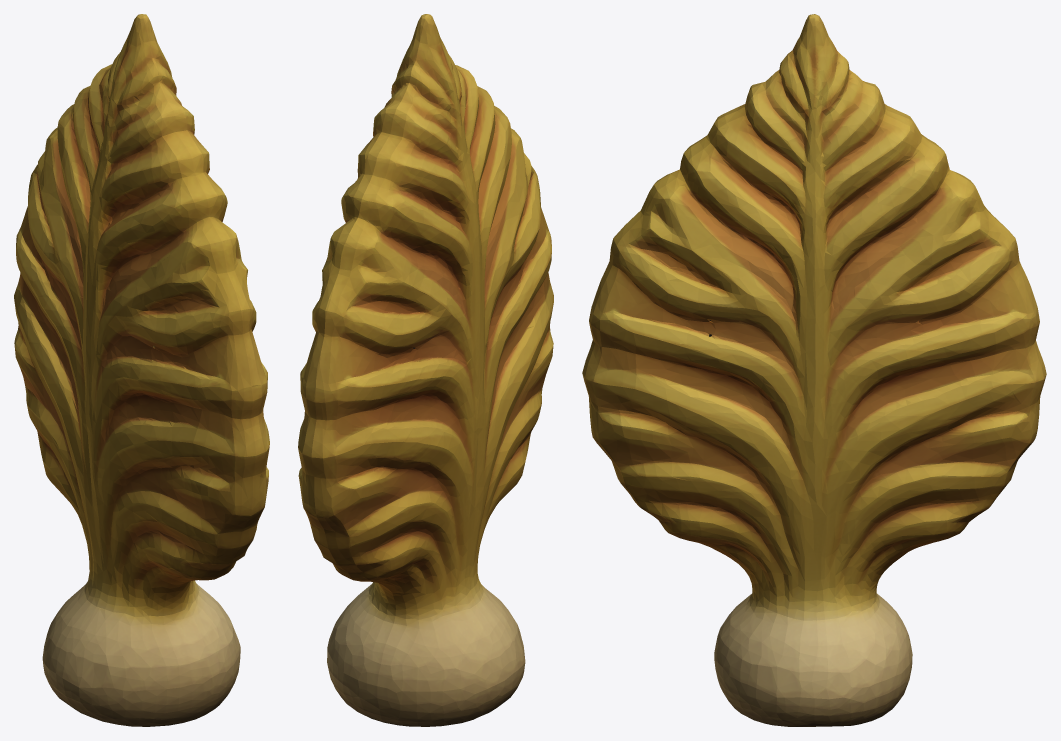
The picture shows the model from 3 angles, left to right: view 1: azimuth 30°, elevation 25°; view 2: azimuth 150°, elevation 25°; view 3: azimuth 270°, elevation 25°; orthographic projection.
Visible parts, largest first — view 1: world; view 2: world; view 3: world.
Part boxes in pixels (left/top/right/bottom): world: left=14, top=14, right=269, bottom=726; world: left=298, top=14, right=553, bottom=726; world: left=582, top=14, right=1046, bottom=726.
Bounding box in the file's own units: 0.2664 × 0.9993 × 0.616.
Materials: 1 (1 with a texture image).
